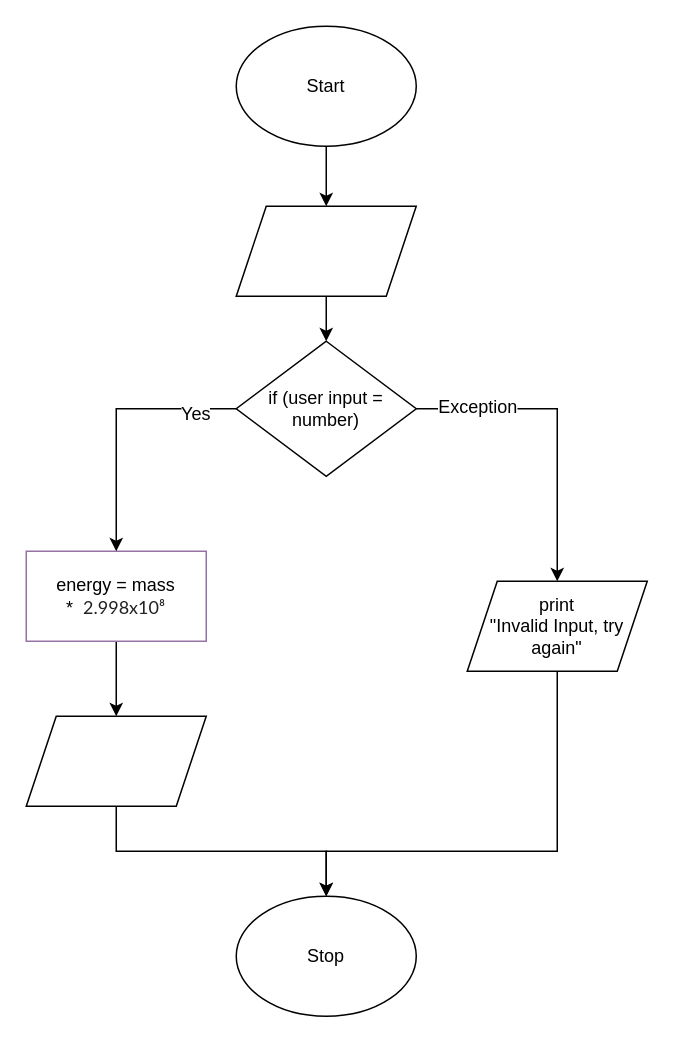
The diagram is 674 pixels wide and 1043 high, and some of its shapes have lost their labels. Each missing label, with the box of its shape:
input mass: (235, 205, 416, 296)
print energy: (25, 715, 206, 806)
